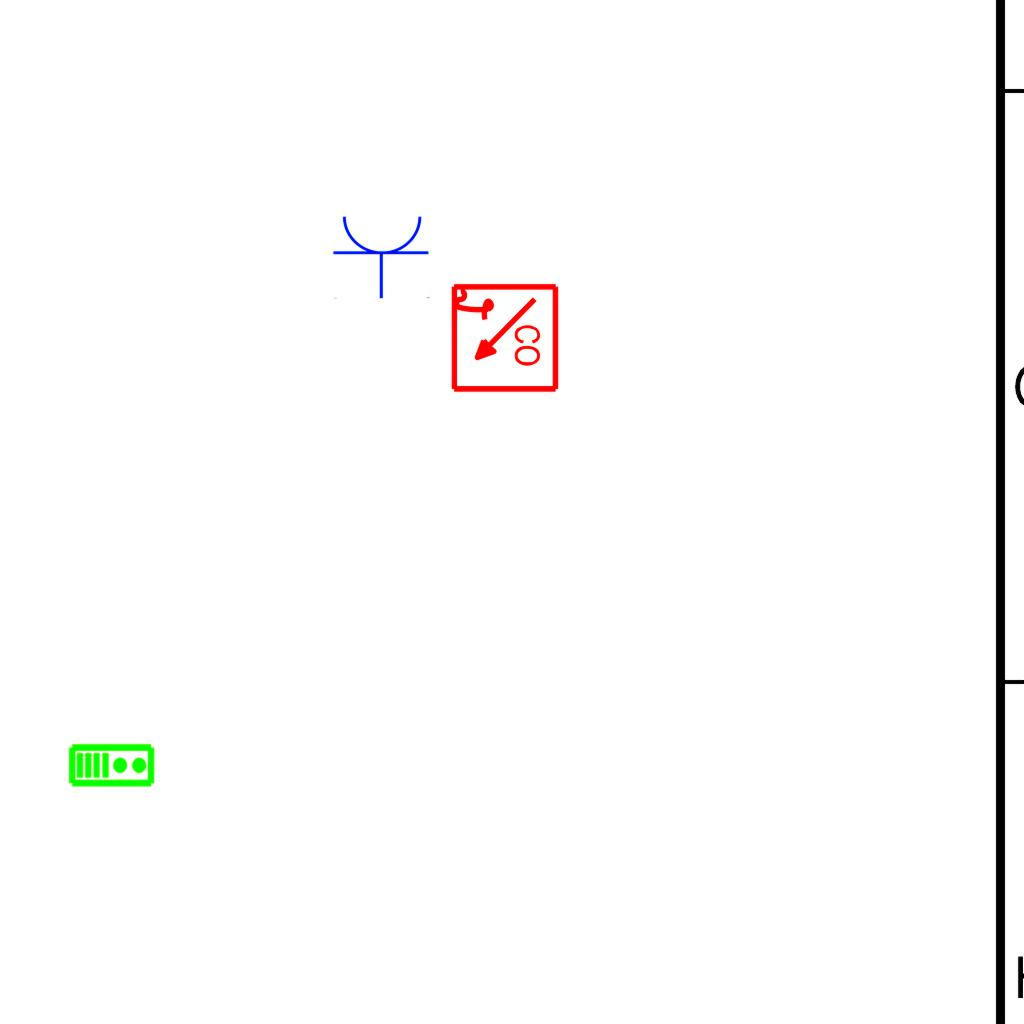Gegensprechanlage_mit_Video: (68, 741, 156, 788)
ROA_Rauchmelder_optisch_mit_Signalgeber_(Sockelsirene): (447, 282, 560, 395)
Schukosteckdose_einfach: (332, 212, 432, 299)
